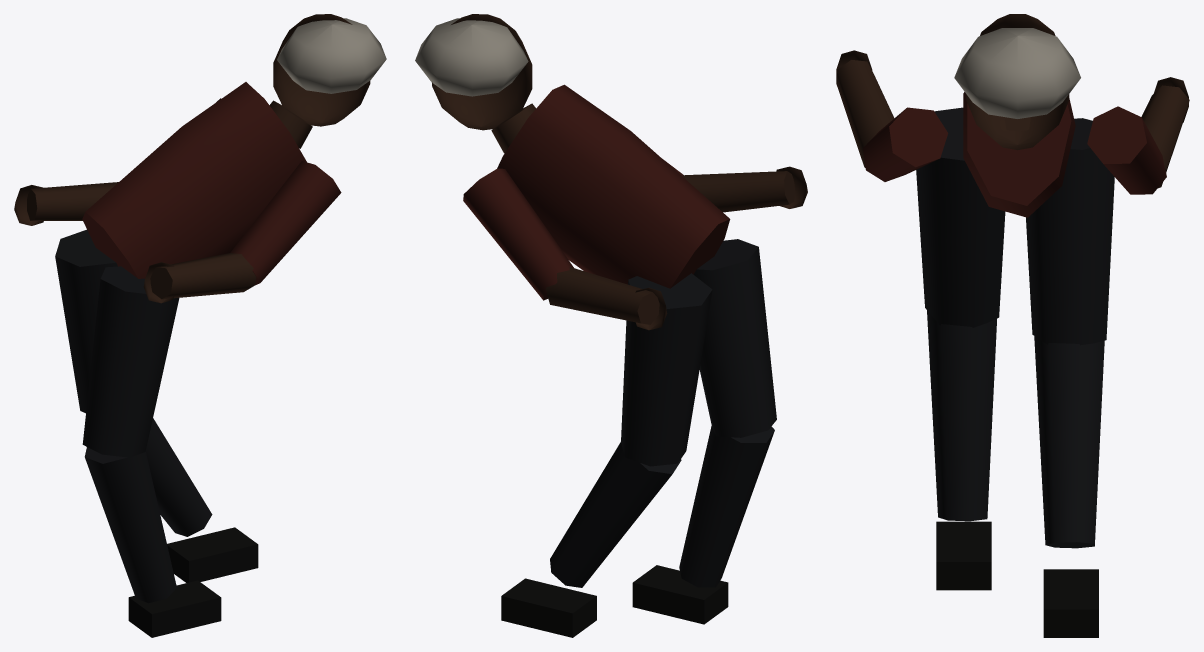
File: HUMAN_F1.dae
3 views of the same model, side by side, from view 1: azimuth 30°, elevation 25°; view 2: azimuth 150°, elevation 25°; view 3: azimuth 270°, elevation 25° (orthographic). The views are drawn at different scales.
Visible parts, largest first — view 1: HUMAN_F1; view 2: HUMAN_F1; view 3: HUMAN_F1.
Boxes of the visible parts, x1,y1,x2,y2 form: HUMAN_F1: (14, 14, 386, 637); HUMAN_F1: (415, 14, 807, 637); HUMAN_F1: (836, 14, 1189, 637).
Bounding box in the file's own units: 0.7956 × 0.6451 × 1.31.
